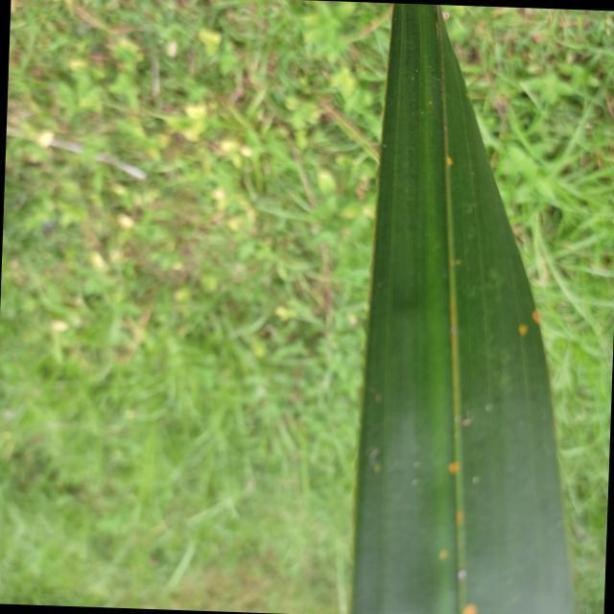Boron: (347, 0, 574, 614)
